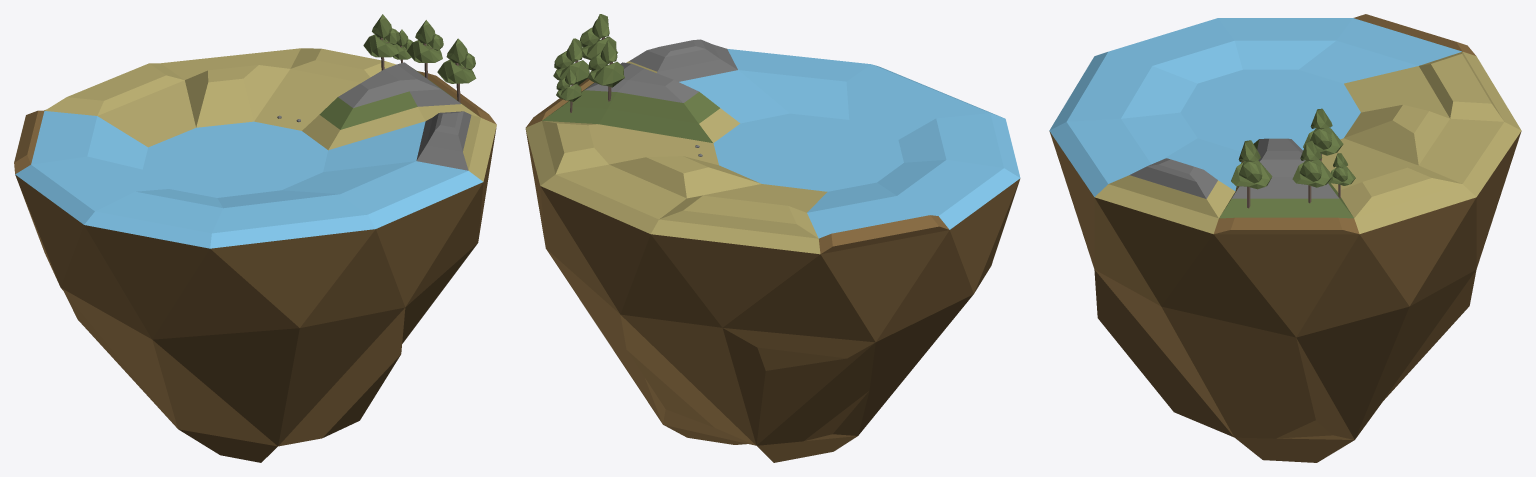
File: litoral.glb
The picture shows the model from 3 angles, left to right: view 1: azimuth 30°, elevation 25°; view 2: azimuth 150°, elevation 25°; view 3: azimuth 270°, elevation 25°; orthographic projection. The views are drawn at different scales.
Parts seen in each view (by area): view 1: planet, Cylinder.002, Cylinder.005, Cylinder.004; view 2: planet, Cylinder.005, Cylinder.004, Cylinder.002, Cylinder.006; view 3: planet, Cylinder.002, Cylinder.004, Cylinder.005, Cylinder.006.
Part boxes in pixels (box(x1,y1,x2,y2)): planet: box(14, 48, 496, 462); Cylinder.002: box(437, 38, 476, 102); Cylinder.005: box(363, 14, 400, 70); Cylinder.004: box(407, 20, 443, 78); planet: box(525, 39, 1020, 462); Cylinder.005: box(587, 40, 624, 101); Cylinder.004: box(553, 38, 589, 85); Cylinder.002: box(580, 14, 617, 59); Cylinder.006: box(556, 68, 581, 112); planet: box(1049, 14, 1521, 462); Cylinder.002: box(1231, 140, 1272, 208); Cylinder.004: box(1292, 140, 1332, 203); Cylinder.005: box(1303, 108, 1343, 161); Cylinder.006: box(1329, 153, 1355, 198).
Bounding box in the file's own units: 2.8 × 2.46 × 2.62.
